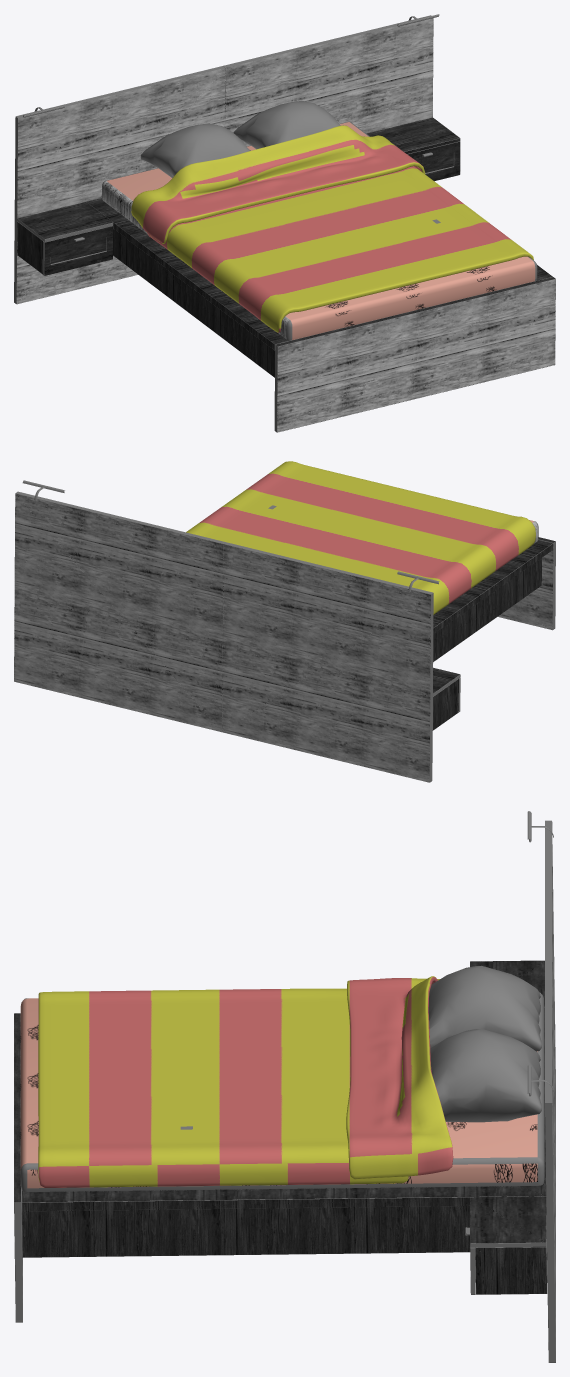
The model's file is Bed2.obj.
3 renders of one model, top to bottom at view 1: azimuth 30°, elevation 25°; view 2: azimuth 150°, elevation 25°; view 3: azimuth 270°, elevation 25°, orthographic. The views are drawn at different scales.
Visible parts, largest first — view 1: Snooze_OBJ:Object01; view 2: Snooze_OBJ:Object01; view 3: Snooze_OBJ:Object01.
Boxes of the visible parts, x1=… form: Snooze_OBJ:Object01: x1=14, y1=14, x2=555, y2=432; Snooze_OBJ:Object01: x1=14, y1=461, x2=555, y2=782; Snooze_OBJ:Object01: x1=14, y1=811, x2=555, y2=1362.
Size of the model in its own units: 4.53 by 2.07 by 3.68.
11 materials, 5 textured.
